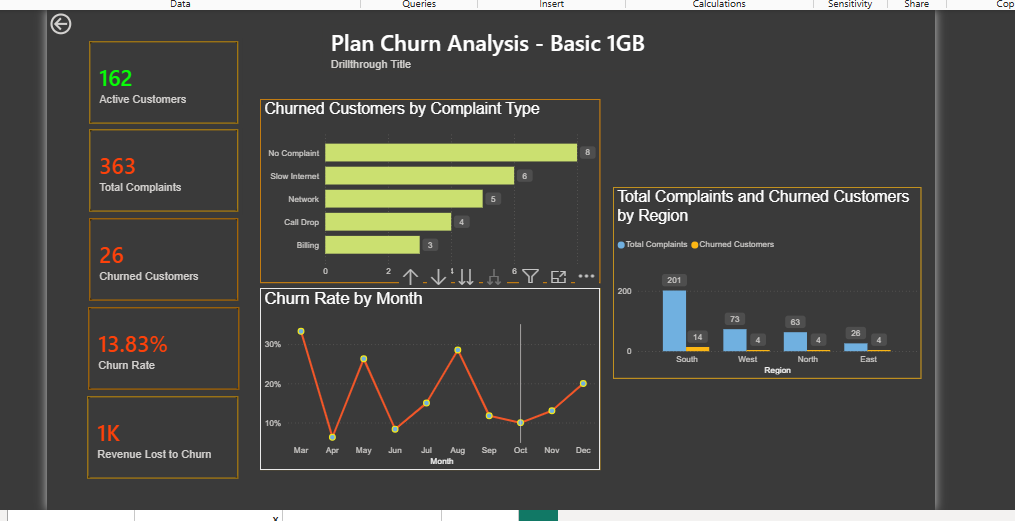

Layout of this report page (visuals, bound fields, positions):
{"tool":"powerbi","page":{"name":"Plan Churn Analysis","canvas":[1280,720],"ordinal":1},"visuals":[{"type":"actionButton","box":[0,0,100,40],"z":0},{"type":"cardVisual","fields":{"Data":["Measure.Churned Customers"]},"box":[56.2,295.2,224.6,128.2],"z":1000},{"type":"cardVisual","fields":{"Data":["Measure.Churn Rate"]},"box":[54.7,423.4,227.5,128.2],"z":2000},{"type":"barChart","title":"Churned Customers by Complaint Type","fields":{"Category":["Complaint_Dimension.Complaint_Type"],"Y":["Measure.Churned Customers"]},"box":[306.7,128.2,489.6,265],"z":3000},{"type":"cardVisual","fields":{"Data":["Measure.Revenue Lost to Churn"]},"box":[53.3,551.5,227.5,128.2],"z":4000},{"type":"lineChart","fields":{"Category":["Time_Dimension.Year","Time_Dimension.Month","Time_Dimension.Quarter"],"Y":["Measure.Churn Rate"]},"box":[306.7,400.3,489.6,262.1],"z":5000},{"type":"clusteredColumnChart","fields":{"Category":["Location_Dimension.Region"],"Y":["Measure.Total Complaints","Measure.Churned Customers"]},"box":[815,254.9,443.5,276.5],"z":6000},{"type":"cardVisual","fields":{"Data":["Measure.Total Complaints"]},"box":[56.2,167,224.6,128.2],"z":7000},{"type":"cardVisual","fields":{"Data":["Measure.Drillthrough Title"]},"box":[378.7,2.9,519.8,102.2],"z":8000},{"type":"cardVisual","fields":{"Data":["Measure.Active Customers"]},"box":[56.2,40.3,224.6,128.2],"z":9000}]}

Visuals, with their boxes on the page's 1280x720 design canvas (x1, y1, x2, y2). These are canvas units, not pixel positions in the 1015x521 screenshot, which may show the page scaled, cropped or inside an application window:
actionButton: region(0, 0, 100, 40)
cardVisual - Measure.Churned Customers: region(56, 295, 281, 423)
cardVisual - Measure.Churn Rate: region(55, 423, 282, 552)
"Churned Customers by Complaint Type" barChart: region(307, 128, 796, 393)
cardVisual - Measure.Revenue Lost to Churn: region(53, 552, 281, 680)
lineChart - Time_Dimension.Year x Time_Dimension.Month: region(307, 400, 796, 662)
clusteredColumnChart - Location_Dimension.Region x Measure.Total Complaints: region(815, 255, 1258, 531)
cardVisual - Measure.Total Complaints: region(56, 167, 281, 295)
cardVisual - Measure.Drillthrough Title: region(379, 3, 898, 105)
cardVisual - Measure.Active Customers: region(56, 40, 281, 168)
